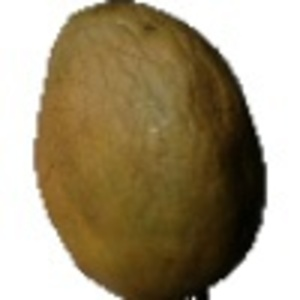mamão: (27, 1, 269, 290)
